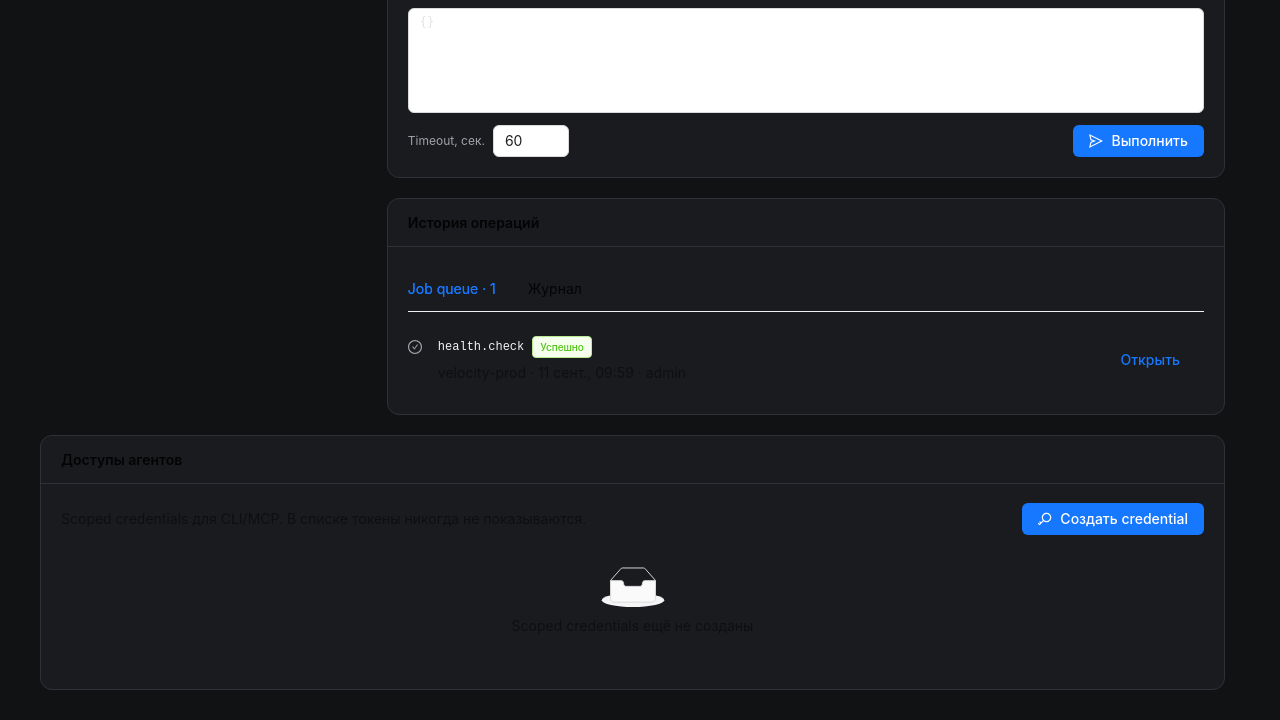
Test: NetworkPage › keeps the old gateway detail layout when progress fields are absent
(page scrolled)
Click the button "Открыть" at (1150, 360), box [1104,344,1196,376]
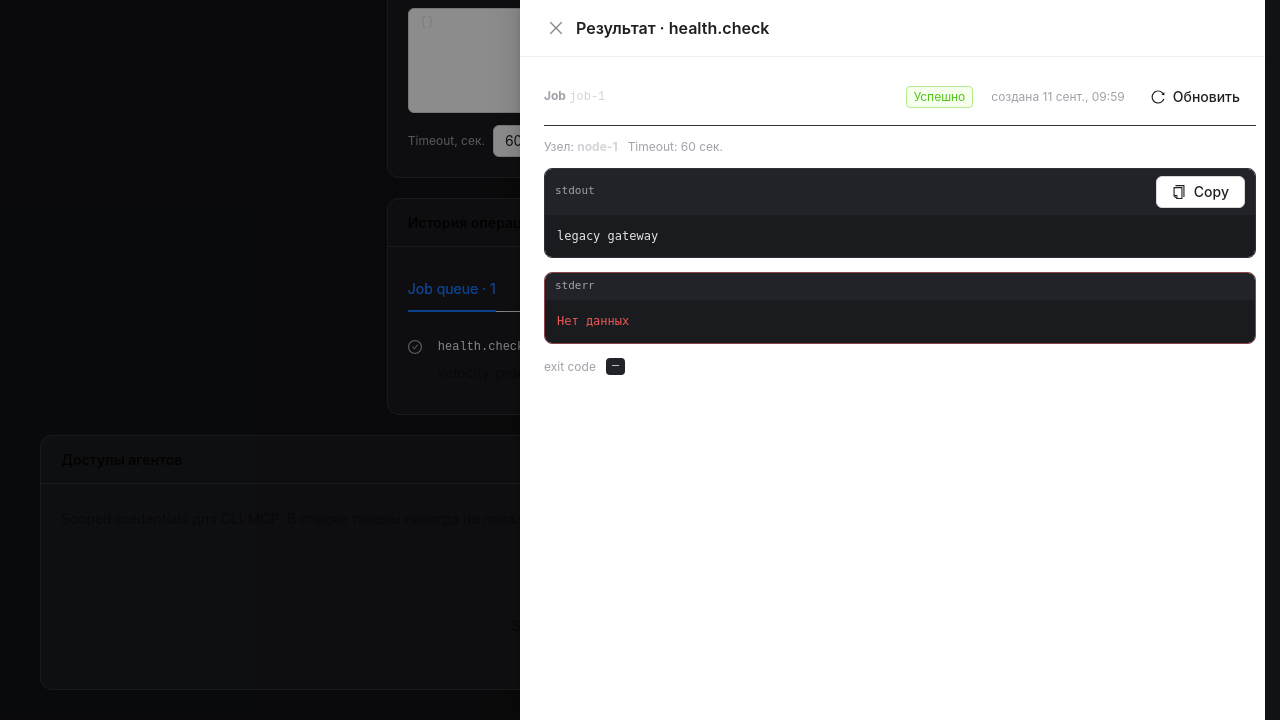
Now the text "legacy gateway" is shown, box [545,215,1255,257]
